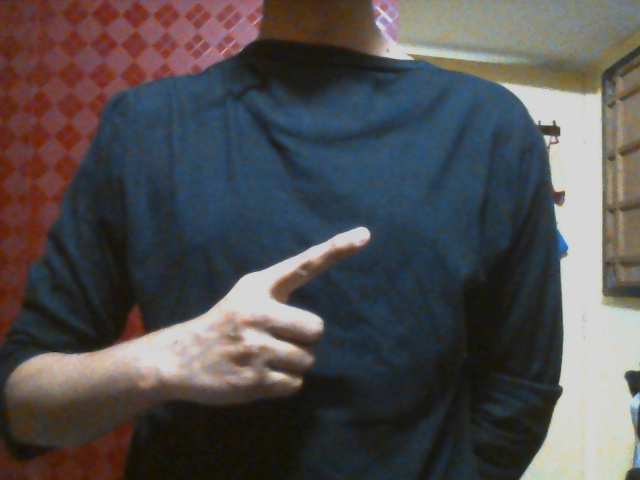I: (191, 224, 373, 408)
